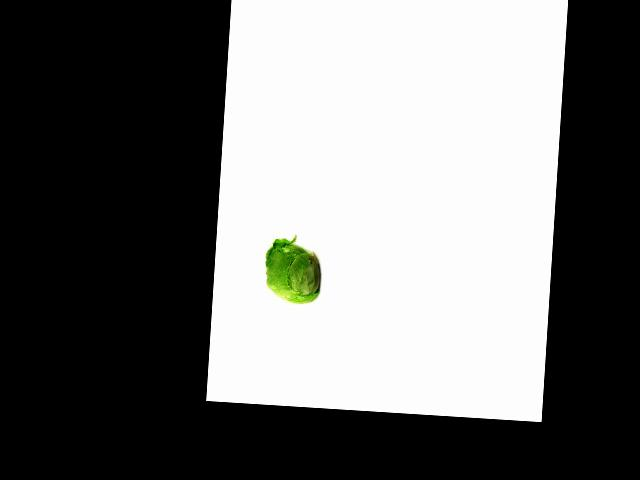lettuce: (260, 240, 324, 307)
